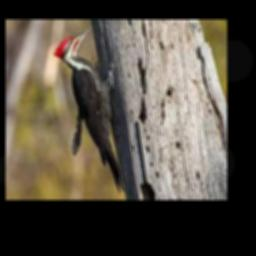Woodpecker: (53, 26, 125, 193)
